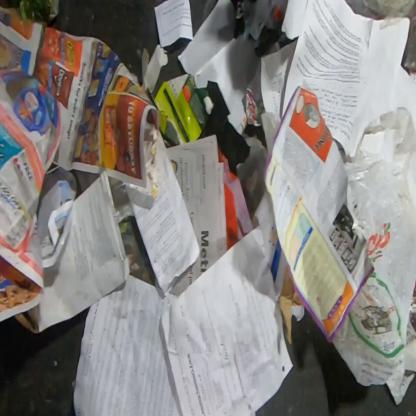cardboard: (177, 0, 284, 137), (235, 112, 283, 220), (152, 74, 216, 146), (218, 148, 254, 251), (279, 264, 303, 344)
soft_plastic: (331, 139, 415, 389), (344, 0, 415, 76)
